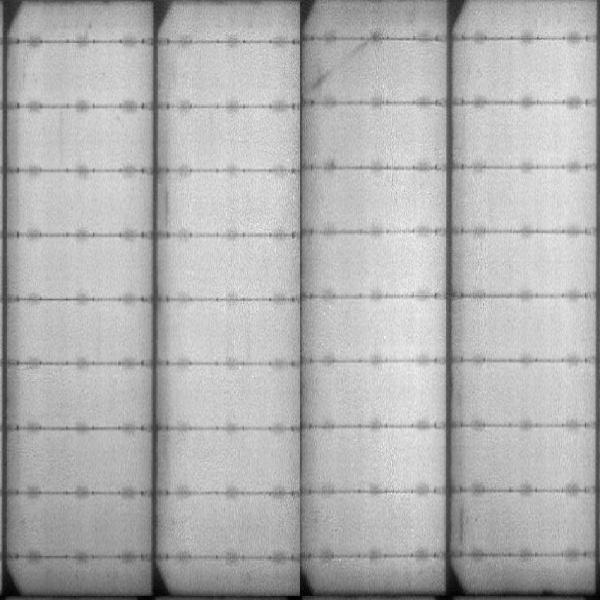scratch: (312, 41, 376, 96), (456, 504, 470, 551)
